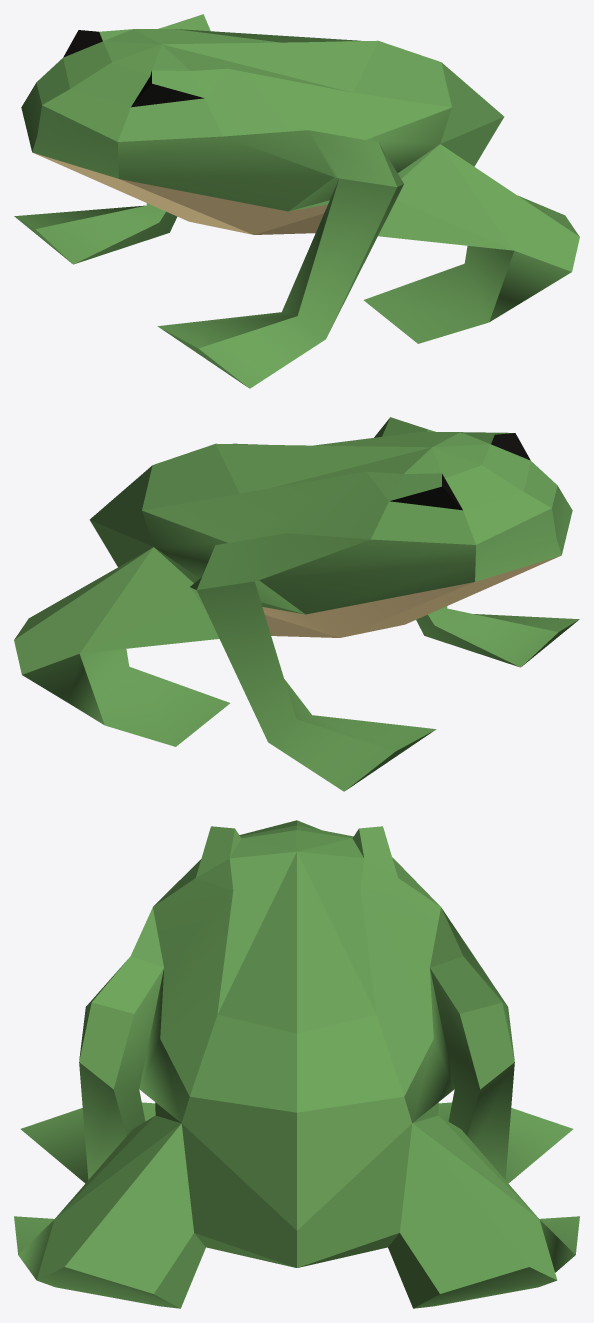
The model's file is frog.fbx.
The picture shows the model from 3 angles, top to bottom: view 1: azimuth 30°, elevation 25°; view 2: azimuth 150°, elevation 25°; view 3: azimuth 270°, elevation 25°; orthographic projection. The views are drawn at different scales.
Parts seen in each view (by area): view 1: pSphere1; view 2: pSphere1; view 3: pSphere1.
Boxes of the visible parts, x1,y1,x2,y2 form: pSphere1: (14,14,579,388); pSphere1: (14,417,579,791); pSphere1: (14,820,579,1308).
Size of the model in its own units: 3.64 by 1.93 by 3.22.
